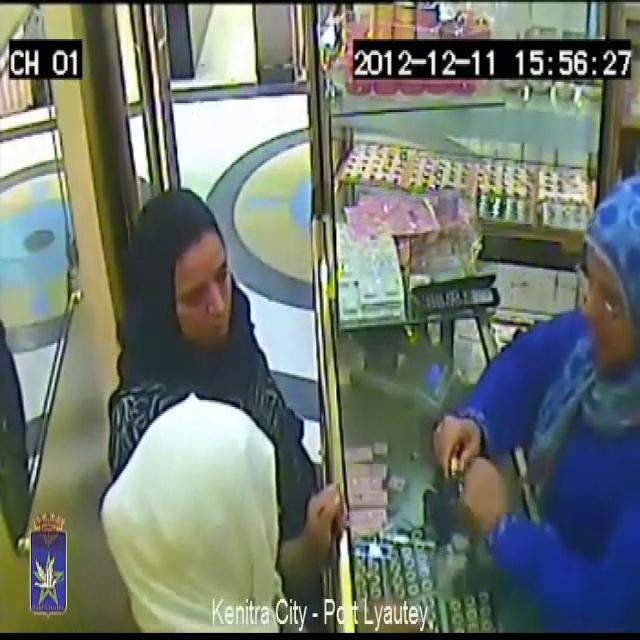Product: (438, 431, 464, 487)
normal: (105, 364, 323, 640), (136, 168, 253, 386)
shoplifting: (382, 144, 640, 627)
